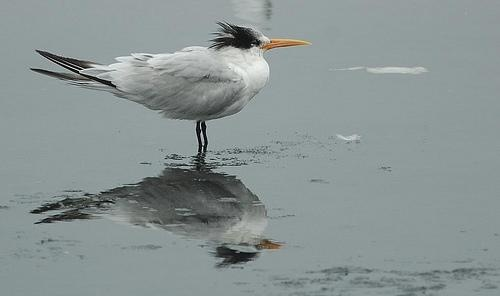bird: (28, 20, 312, 164)
